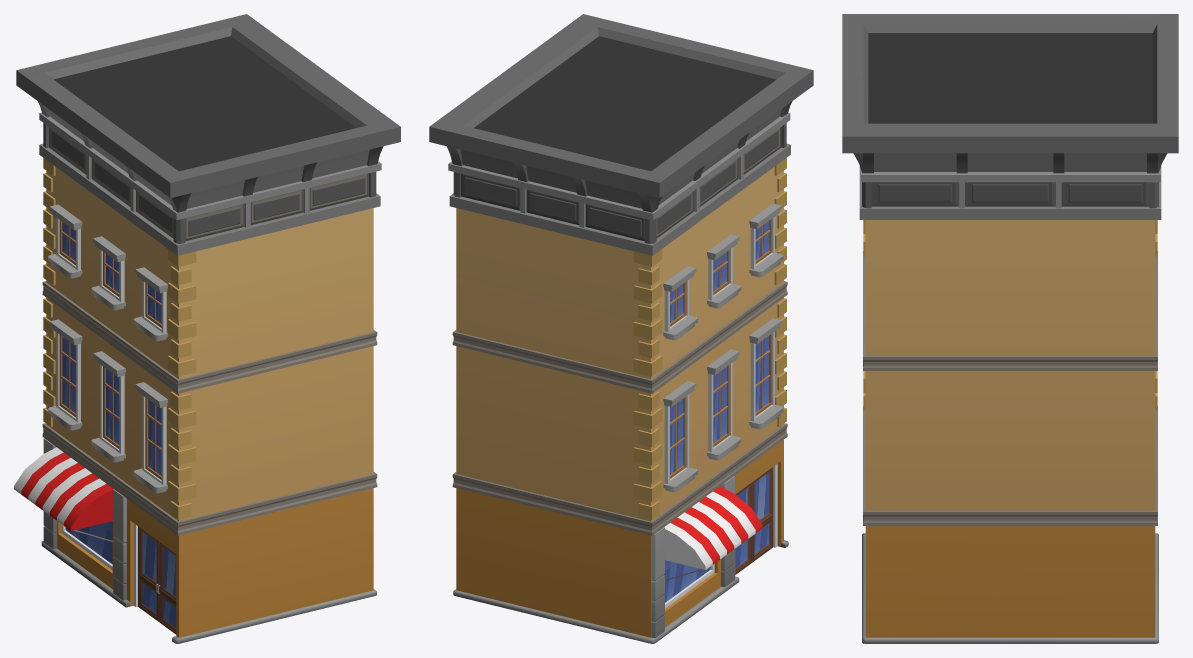
File: Building_8_2_L.fbx
3 renders of one model, left to right at view 1: azimuth 30°, elevation 25°; view 2: azimuth 150°, elevation 25°; view 3: azimuth 270°, elevation 25°, orthographic. The views are drawn at different scales.
Visible parts, largest first — view 1: Building 8_2_L; view 2: Building 8_2_L; view 3: Building 8_2_L.
Part boxes in pixels (x1,y1,x2,y2): Building 8_2_L: (14, 14, 400, 643); Building 8_2_L: (429, 14, 813, 643); Building 8_2_L: (842, 14, 1178, 643).
Size of the model in its own units: 720 by 1276 by 755.
